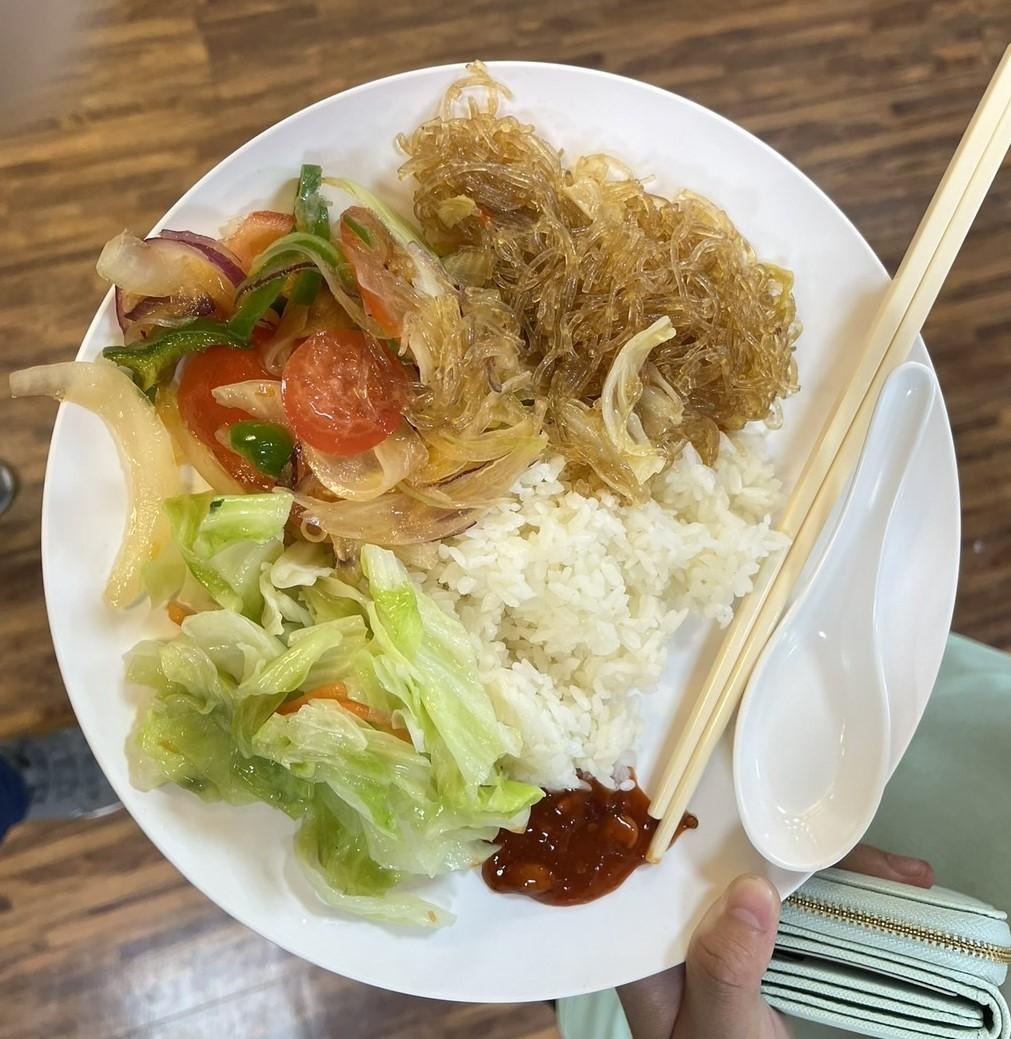big fried chicken leg: (43, 60, 977, 1004)
big herbal chicken leg: (411, 408, 783, 744)
braised fish fillet: (143, 498, 509, 914), (393, 85, 801, 445), (88, 191, 437, 520)
